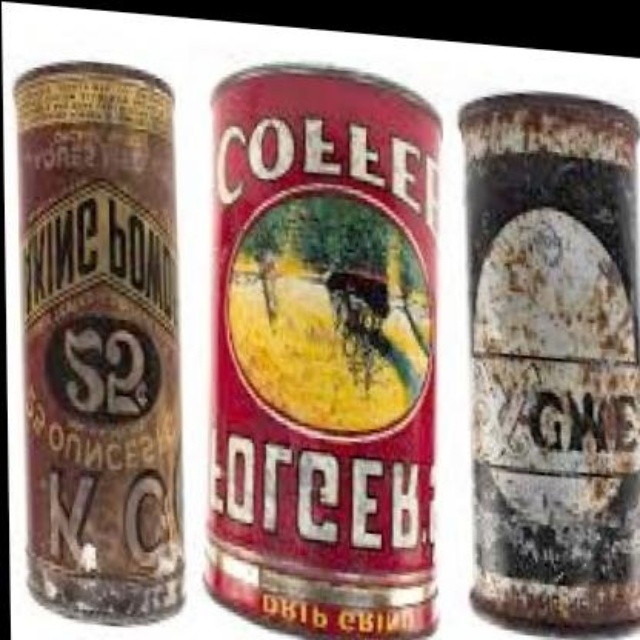trash: (206, 66, 438, 637), (460, 94, 638, 626), (15, 63, 182, 622)
